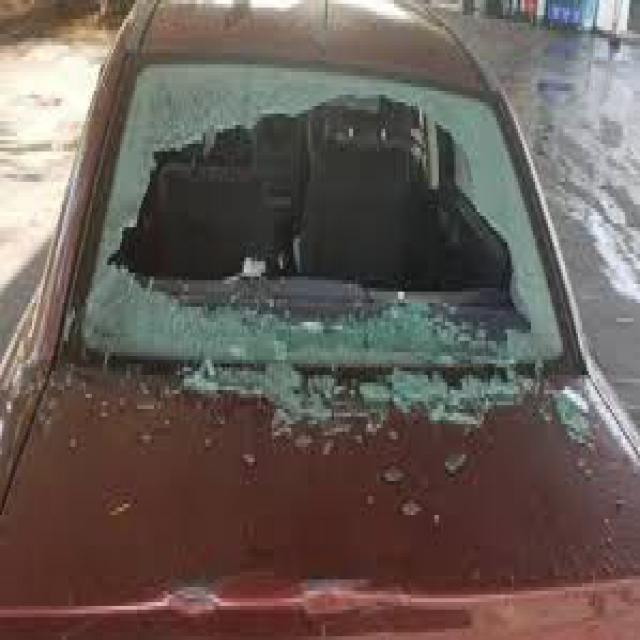Rear-windscreen-Damage: (43, 11, 606, 428)
